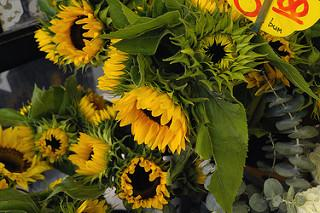sunflower: (116, 87, 189, 157), (0, 124, 55, 191), (51, 1, 105, 67), (119, 156, 172, 211), (68, 132, 110, 176), (37, 127, 69, 158)
